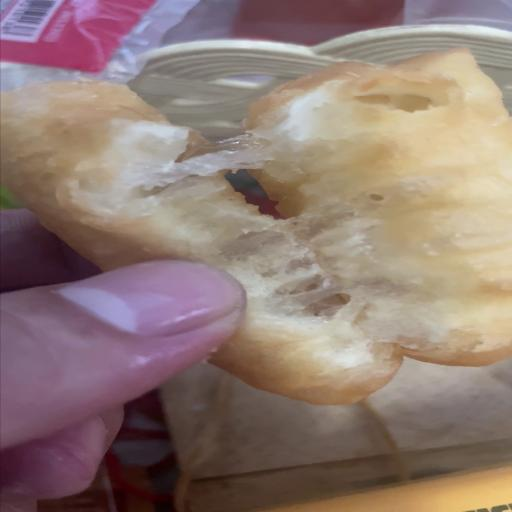street_golden_defect: (4, 44, 512, 402)
